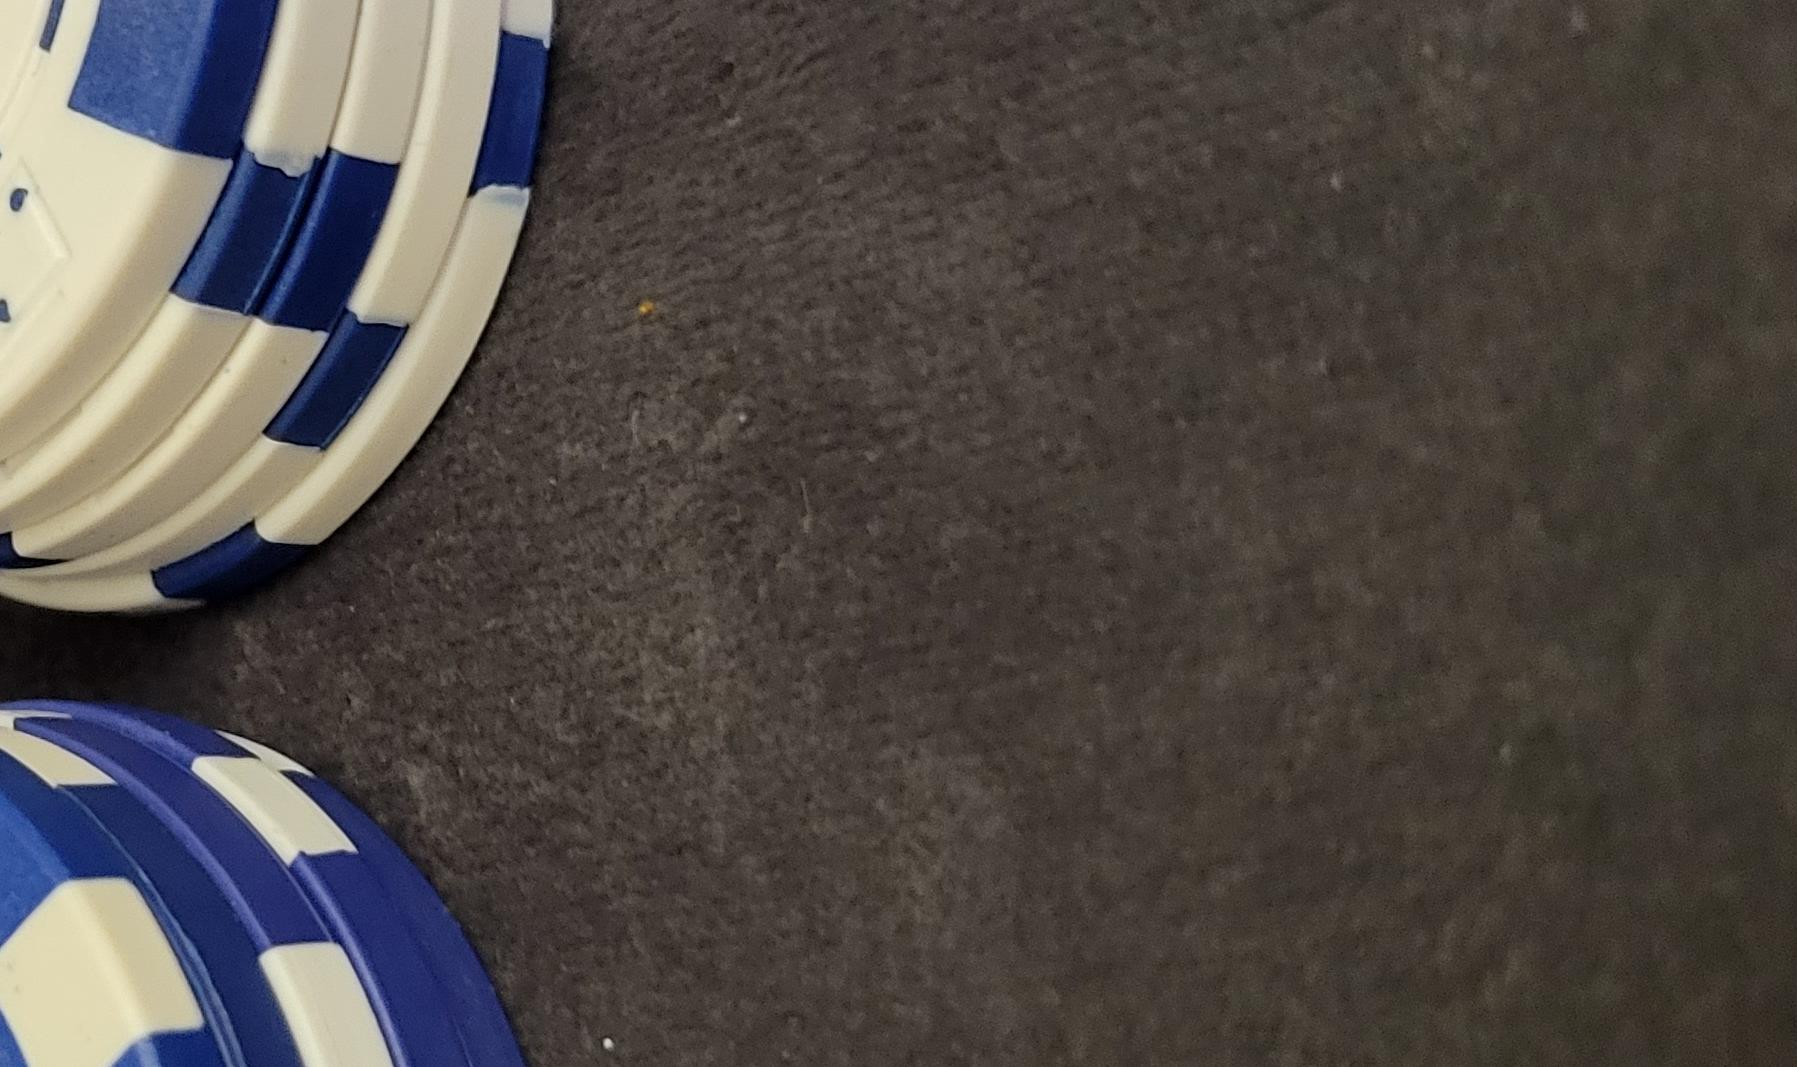Chip: (1, 310, 858, 1067)
